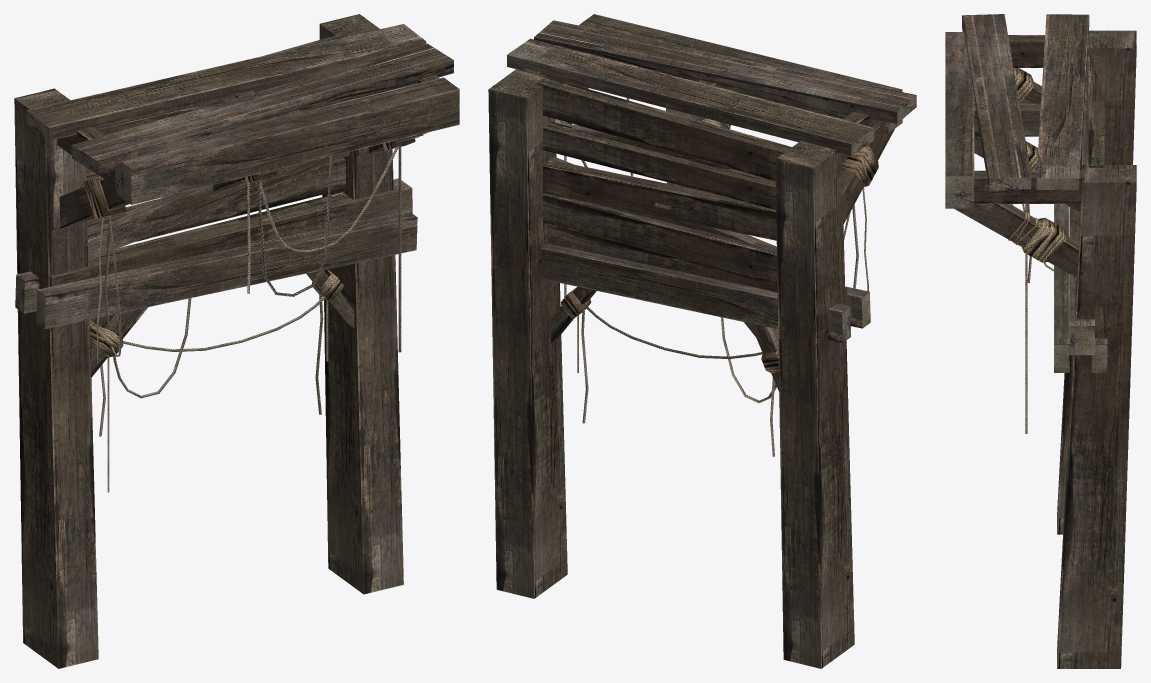
The model's file is Wood.FBX.
The picture shows the model from 3 angles, left to right: view 1: azimuth 30°, elevation 25°; view 2: azimuth 150°, elevation 25°; view 3: azimuth 270°, elevation 25°; orthographic projection. The views are drawn at different scales.
Visible parts, largest first — view 1: LV_DeadMine_Object_WoodWall01_SM_KHJ; view 2: LV_DeadMine_Object_WoodWall01_SM_KHJ; view 3: LV_DeadMine_Object_WoodWall01_SM_KHJ.
Part boxes in pixels (x1=…): LV_DeadMine_Object_WoodWall01_SM_KHJ: x1=14, y1=14, x2=459, y2=668; LV_DeadMine_Object_WoodWall01_SM_KHJ: x1=488, y1=14, x2=916, y2=668; LV_DeadMine_Object_WoodWall01_SM_KHJ: x1=945, y1=14, x2=1136, y2=668.
Size of the model in its own units: 182 by 88.45 by 253.
